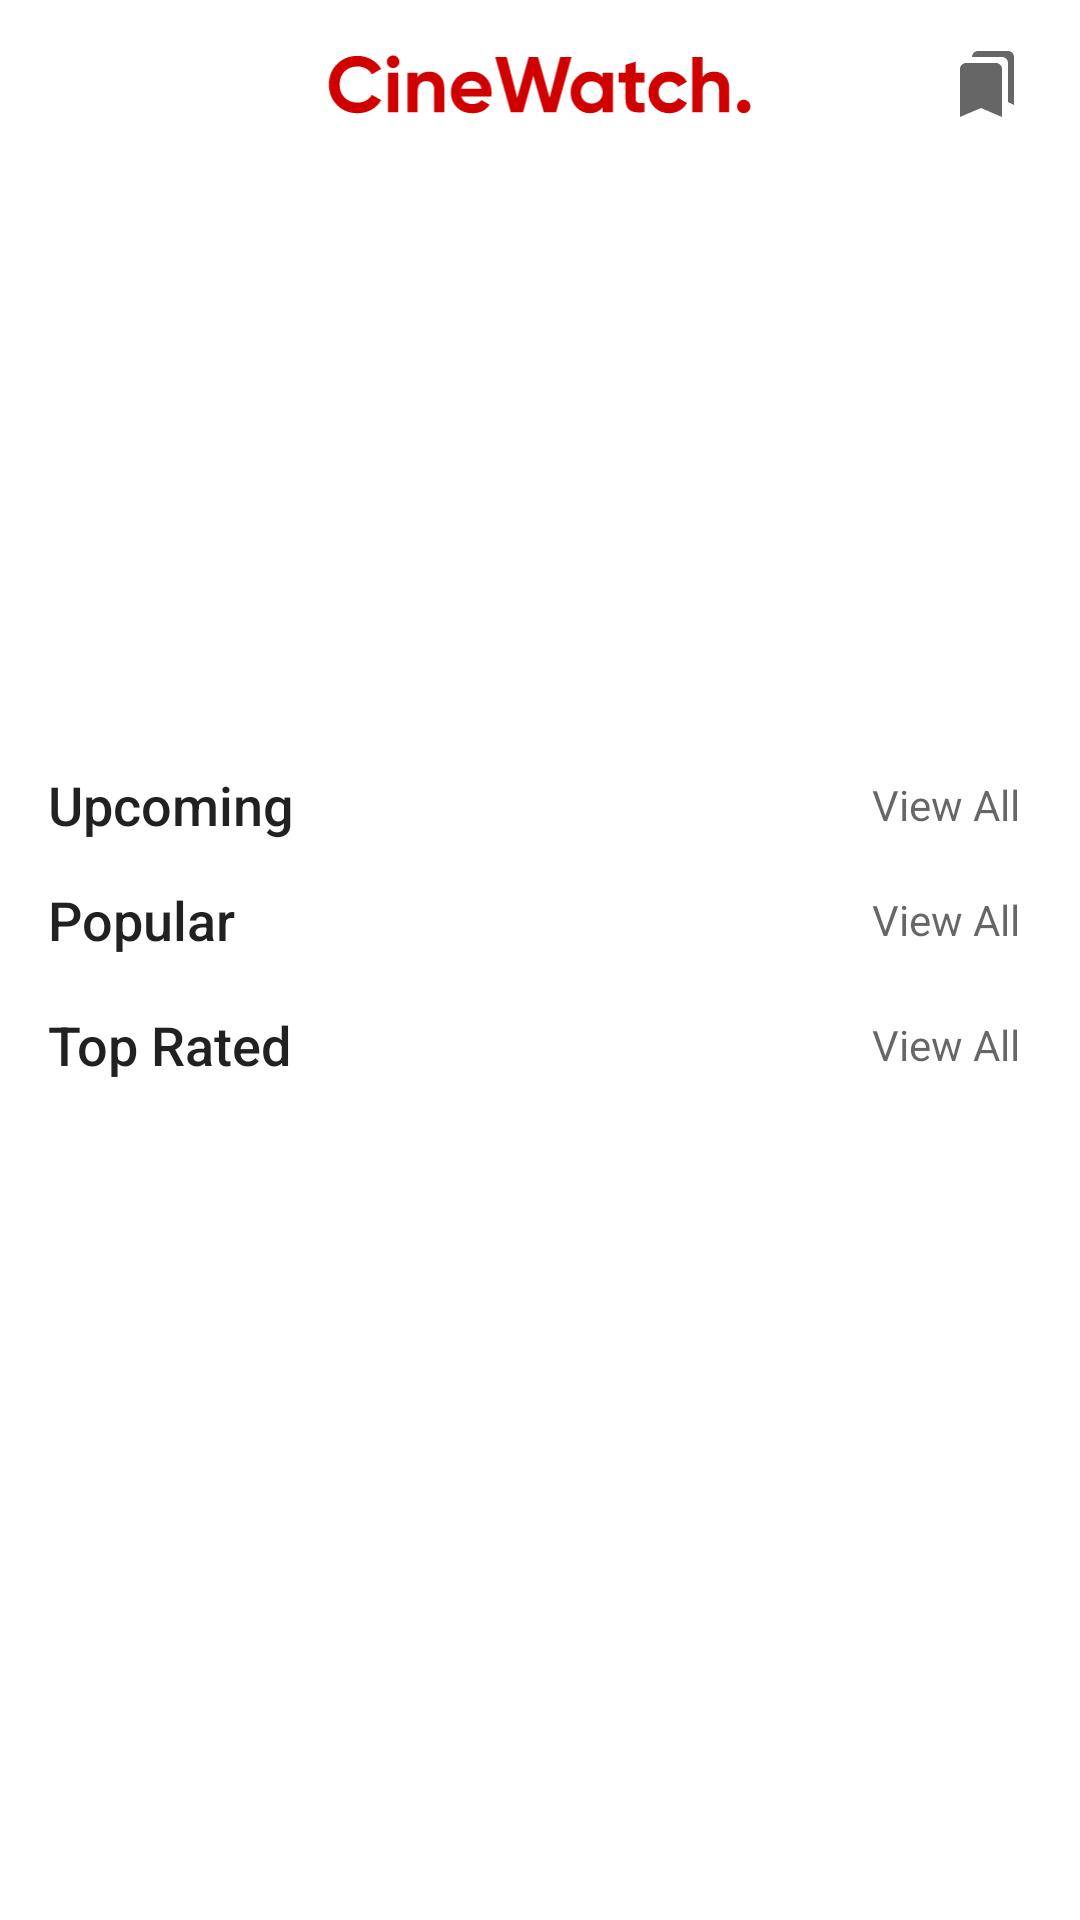

Screen size 1080w x 1920h. Icon name, then its box in pixels as BBox(x1, y1, x2, y2):
bookmarks: BBox(960, 51, 1014, 117)
